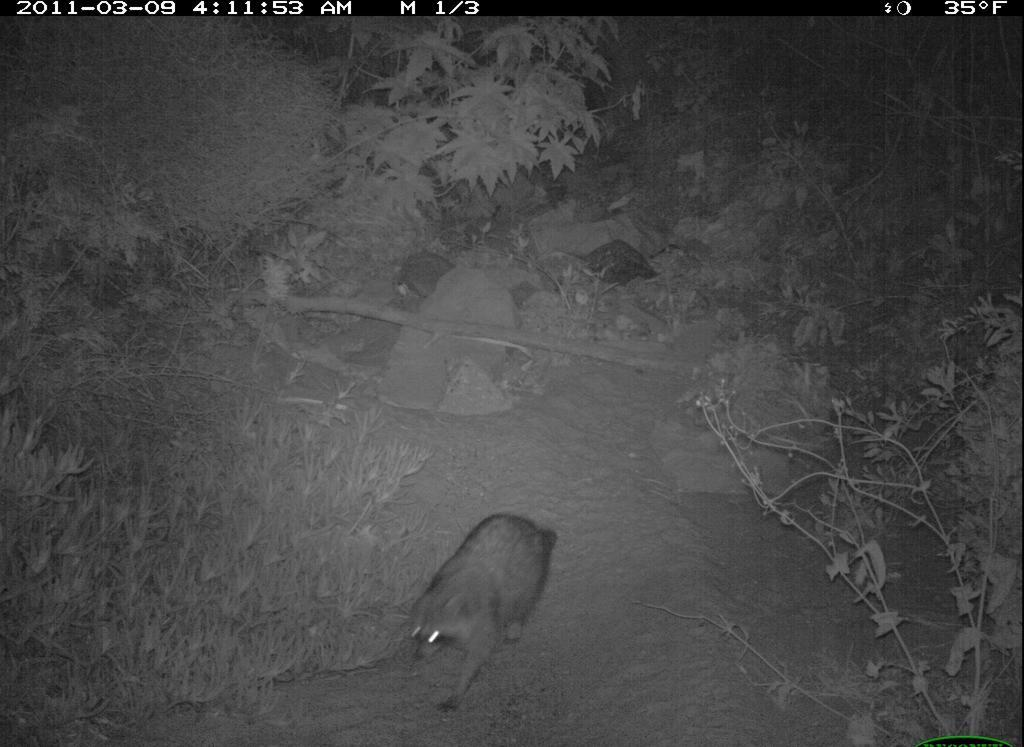raccoon: (382, 491, 577, 712)
